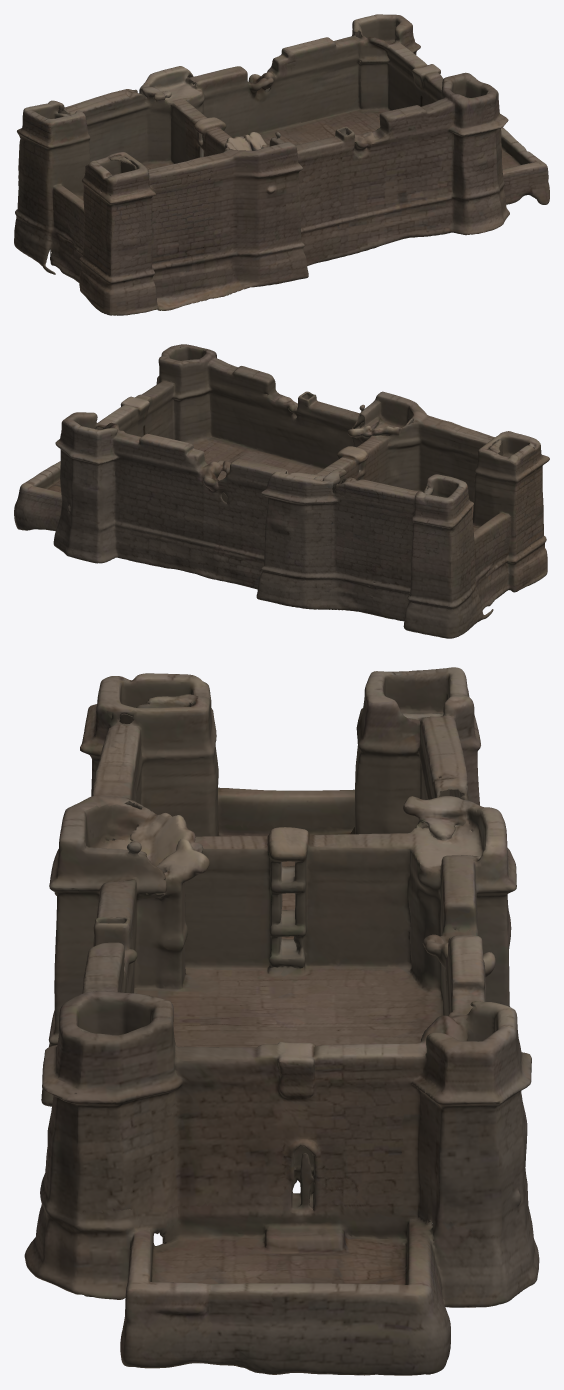
The model's file is amber_fort_ancient.glb.
3 views of the same model, one above another, from view 1: azimuth 30°, elevation 25°; view 2: azimuth 150°, elevation 25°; view 3: azimuth 270°, elevation 25° (orthographic). The views are drawn at different scales.
Visible parts, largest first — view 1: tripo_node_8ddc4889-91b7-4cb3-9ed3-b6b38122d4b0; view 2: tripo_node_8ddc4889-91b7-4cb3-9ed3-b6b38122d4b0; view 3: tripo_node_8ddc4889-91b7-4cb3-9ed3-b6b38122d4b0.
Boxes of the visible parts, <box> form: tripo_node_8ddc4889-91b7-4cb3-9ed3-b6b38122d4b0: <box>14,14,549,315</box>; tripo_node_8ddc4889-91b7-4cb3-9ed3-b6b38122d4b0: <box>14,344,549,638</box>; tripo_node_8ddc4889-91b7-4cb3-9ed3-b6b38122d4b0: <box>24,667,539,1375</box>.
Bounding box in the file's own units: 1 × 0.3024 × 0.4898.
Materials: 1 (1 with a texture image).
